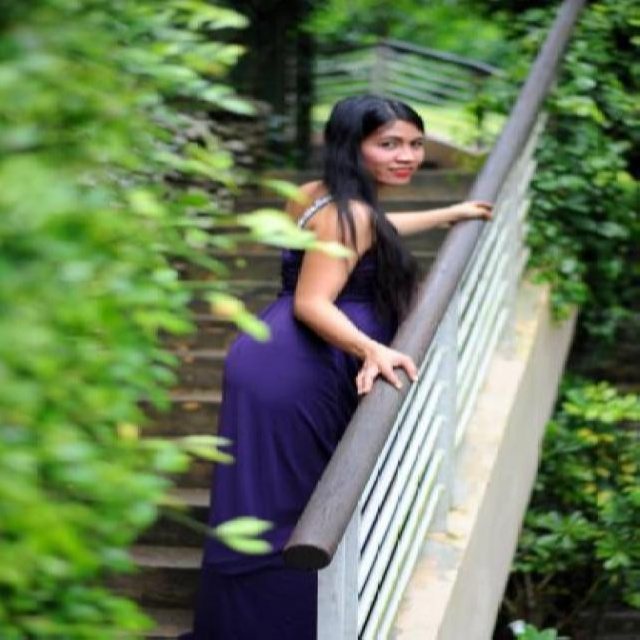stair: (90, 175, 475, 640)
